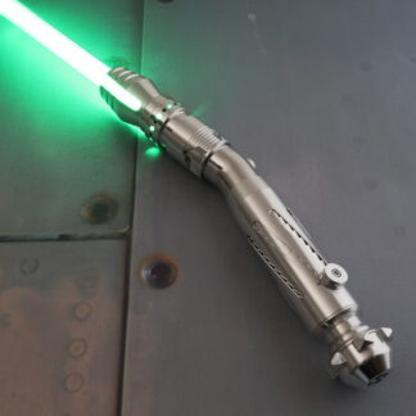lightsaber: (0, 0, 396, 389)
